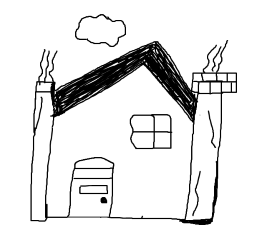closed_window: (120, 105, 178, 159)
clouds: (72, 4, 134, 48)
door: (65, 150, 117, 224)
shaded_roof: (54, 39, 197, 119)
smoking_chimney: (184, 26, 240, 125), (26, 32, 66, 120)
wall: (40, 96, 198, 228)
